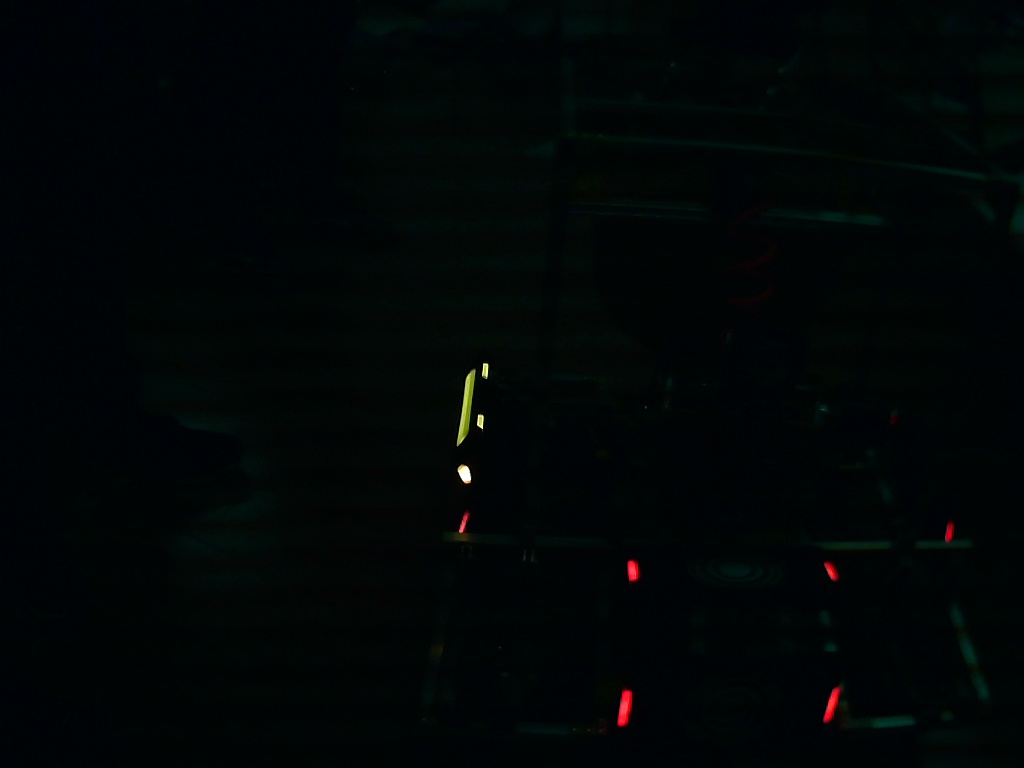lamp: (821, 683, 843, 725), (616, 684, 636, 730)
